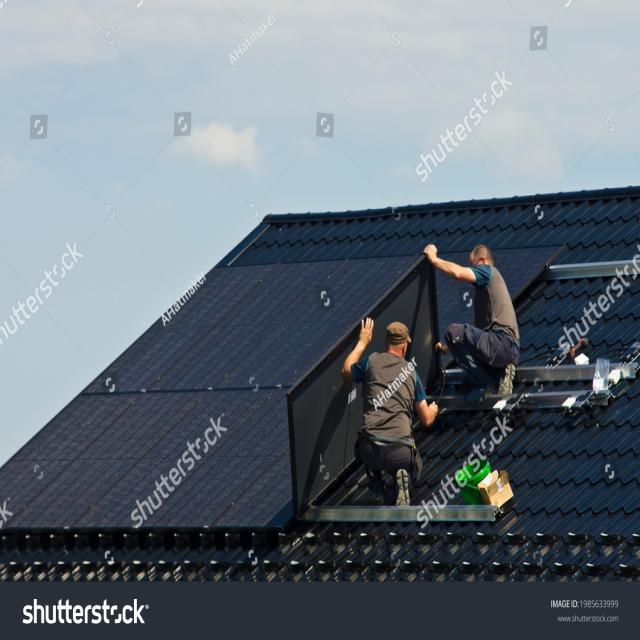clean-solar-panel: (0, 256, 438, 534)
